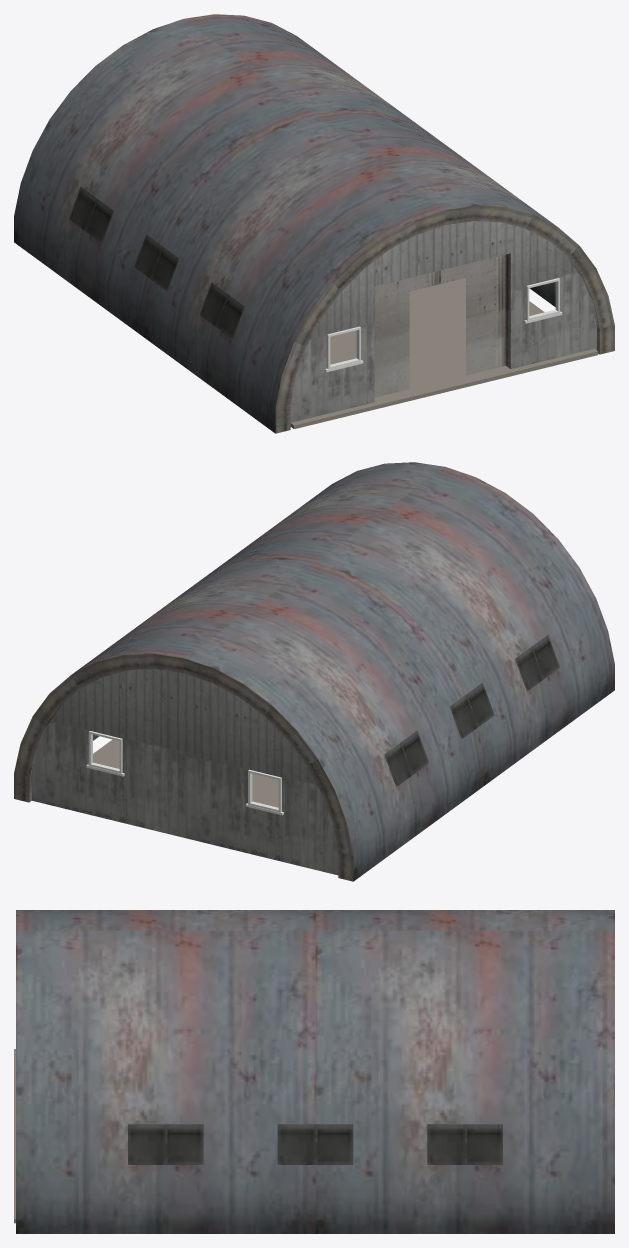
The model's file is rural-quonset.windows-v1.lod0.glb.
3 views of the same model, one above another, from view 1: azimuth 30°, elevation 25°; view 2: azimuth 150°, elevation 25°; view 3: azimuth 270°, elevation 25° (orthographic). The views are drawn at different scales.
Parts seen in each view (by area): view 1: Rural_QuonsetHut_1_Rural_Industrial_Walls_FLR_1_0, Walkable floors and stairs, Window frames; view 2: Rural_QuonsetHut_1_Rural_Industrial_Walls_FLR_1_0, Walkable floors and stairs, Window frames; view 3: Rural_QuonsetHut_1_Rural_Industrial_Walls_FLR_1_0.
Part boxes in pixels (<box>): Rural_QuonsetHut_1_Rural_Industrial_Walls_FLR_1_0: <box>14,14,614,433</box>; Walkable floors and stairs: <box>290,278,598,429</box>; Window frames: <box>325,278,562,372</box>; Rural_QuonsetHut_1_Rural_Industrial_Walls_FLR_1_0: <box>14,462,614,881</box>; Walkable floors and stairs: <box>93,739,278,807</box>; Window frames: <box>86,731,283,815</box>; Rural_QuonsetHut_1_Rural_Industrial_Walls_FLR_1_0: <box>16,910,614,1233</box>.
Size of what is drawn, in the model's own units: 9.38 by 4.81 by 12.56.
Materials: 3 (1 with a texture image).
